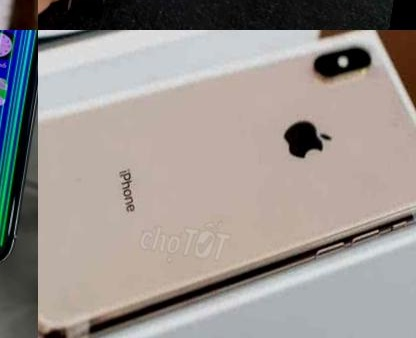screen_defect: (0, 43, 38, 96), (0, 156, 32, 203), (0, 116, 29, 164), (0, 194, 27, 241), (0, 91, 37, 125), (0, 30, 38, 53), (0, 231, 19, 271)
